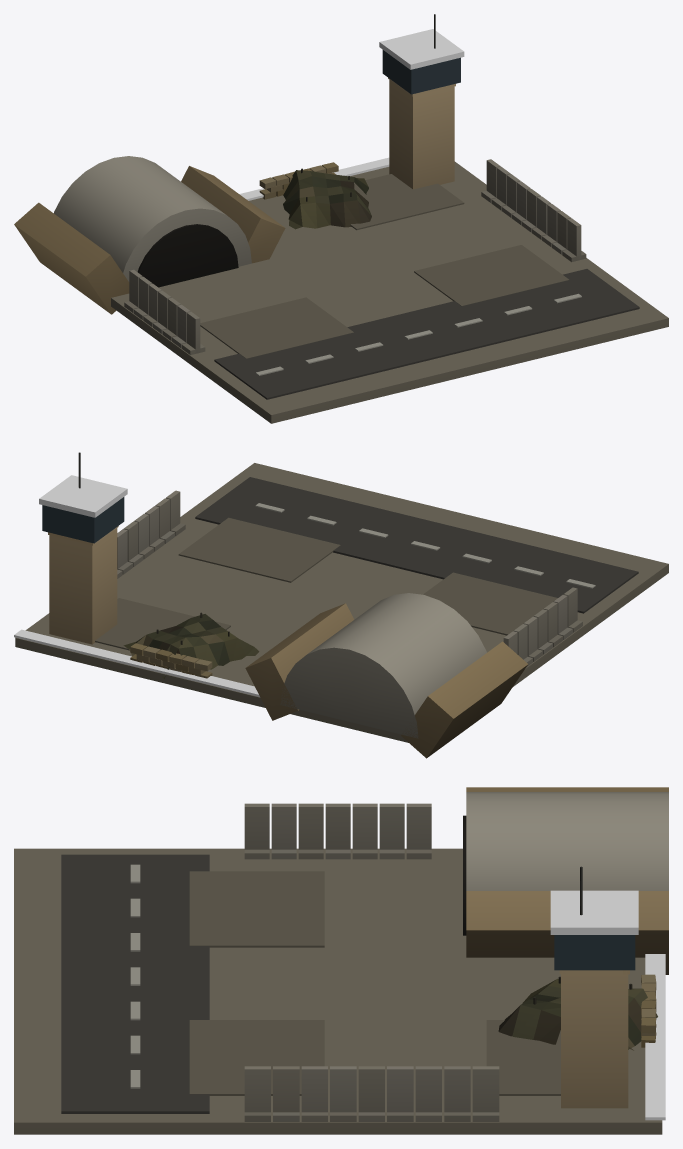
The model's file is m_airfield_3534fba9.glb.
3 renders of one model, top to bottom at view 1: azimuth 30°, elevation 25°; view 2: azimuth 150°, elevation 25°; view 3: azimuth 270°, elevation 25°, orthographic. The views are drawn at different scales.
Visible parts, largest first — view 1: mesh; view 2: mesh; view 3: mesh.
Boxes of the visible parts, x1,y1,x2,y2 form: mesh: [14, 14, 668, 423]; mesh: [14, 452, 668, 758]; mesh: [14, 787, 668, 1134].
Size of the model in its own units: 102 by 41.94 by 97.
